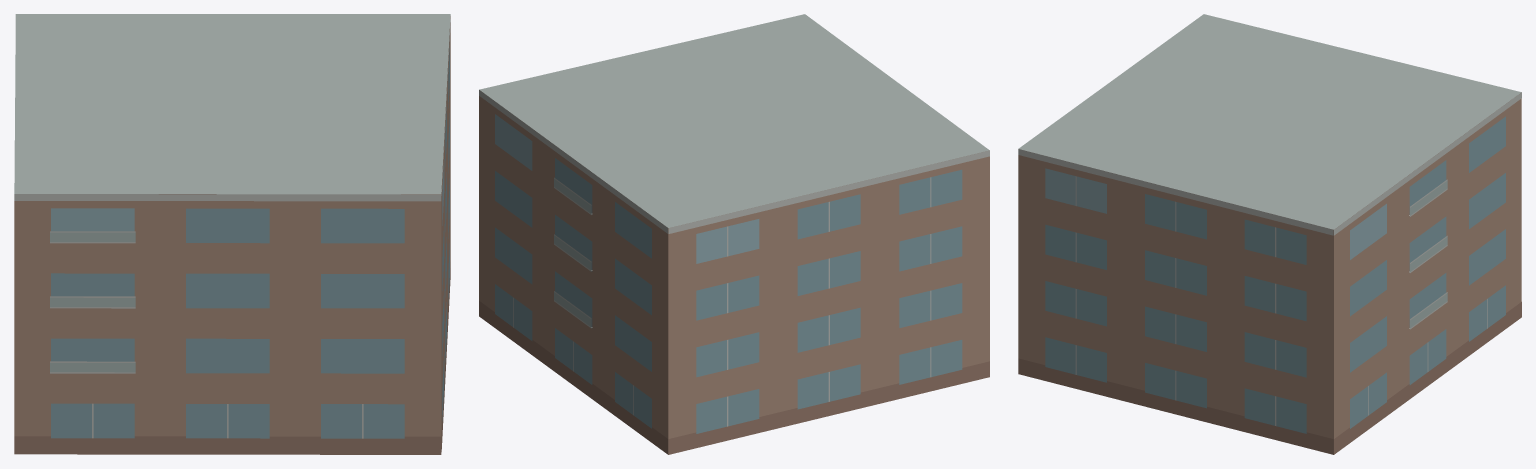
The model's file is survey-upis-32722098.glb.
3 renders of one model, left to right at view 1: azimuth 30°, elevation 25°; view 2: azimuth 150°, elevation 25°; view 3: azimuth 270°, elevation 25°, orthographic. The views are drawn at different scales.
Parts seen in each view (by area): view 1: survey-upis-32722098.tmp; view 2: survey-upis-32722098.tmp; view 3: survey-upis-32722098.tmp.
Part boxes in pixels (box(x1,y1,x2,y2)): survey-upis-32722098.tmp: box(14, 14, 450, 454); survey-upis-32722098.tmp: box(479, 14, 989, 454); survey-upis-32722098.tmp: box(1018, 14, 1521, 454).
Size of the model in its own units: 18.71 by 9.1 by 18.45.
